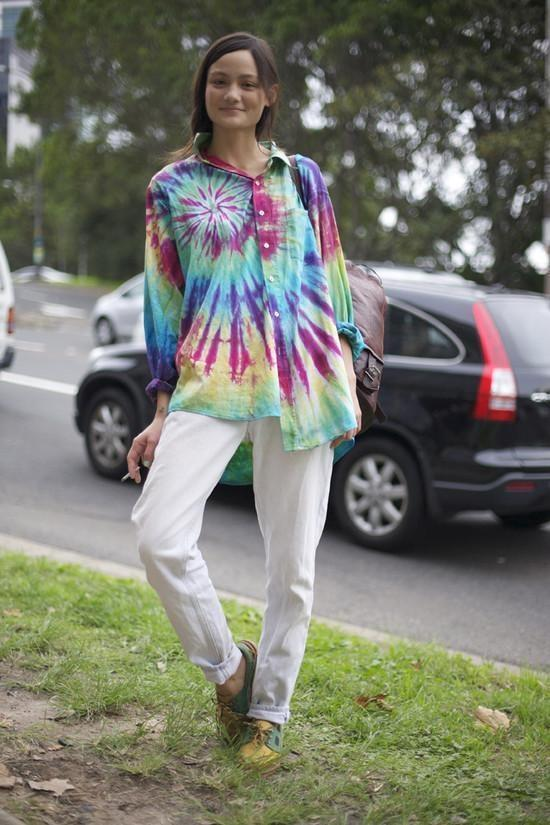pants: (130, 402, 334, 722)
shirt: (144, 132, 363, 452)
